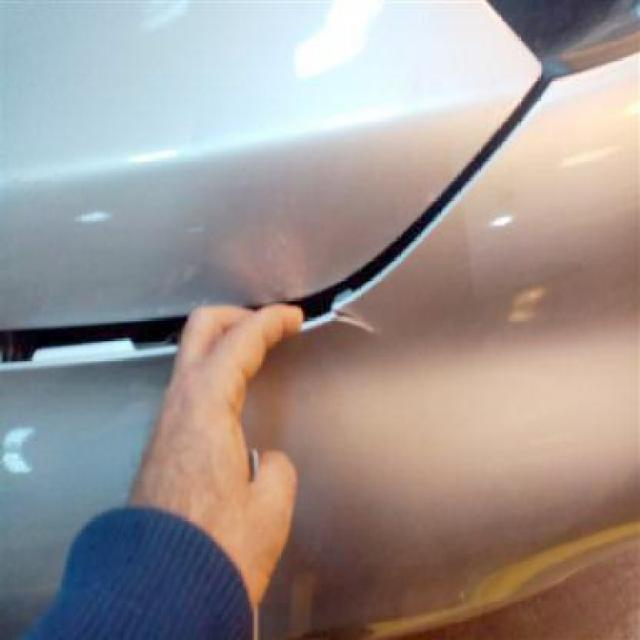car damage: (358, 476, 640, 640), (302, 0, 395, 77), (503, 286, 546, 321), (334, 304, 367, 328)
